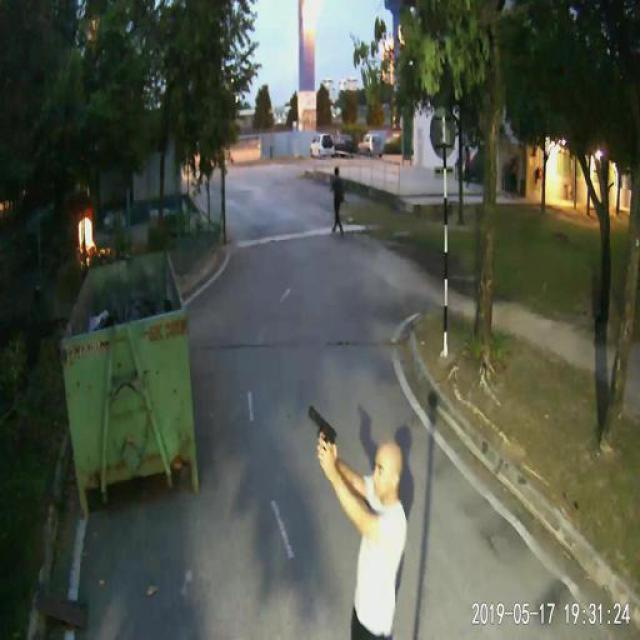weapon: (306, 405, 340, 456)
